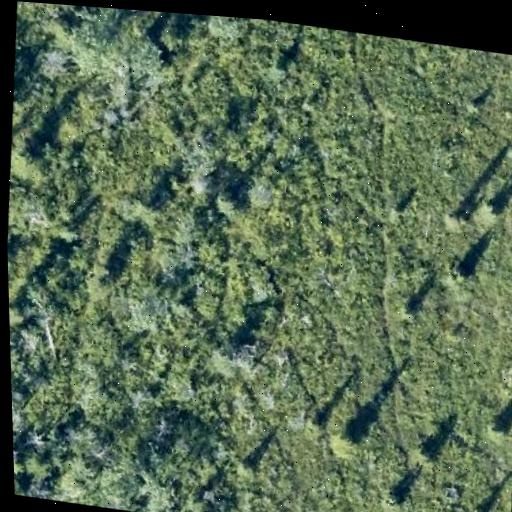tree-top: (74, 256, 129, 309), (207, 332, 256, 377), (215, 176, 252, 223), (326, 424, 365, 466), (132, 190, 169, 232), (435, 254, 472, 293), (405, 437, 445, 472), (470, 194, 504, 228), (377, 483, 411, 512), (487, 414, 512, 445)
